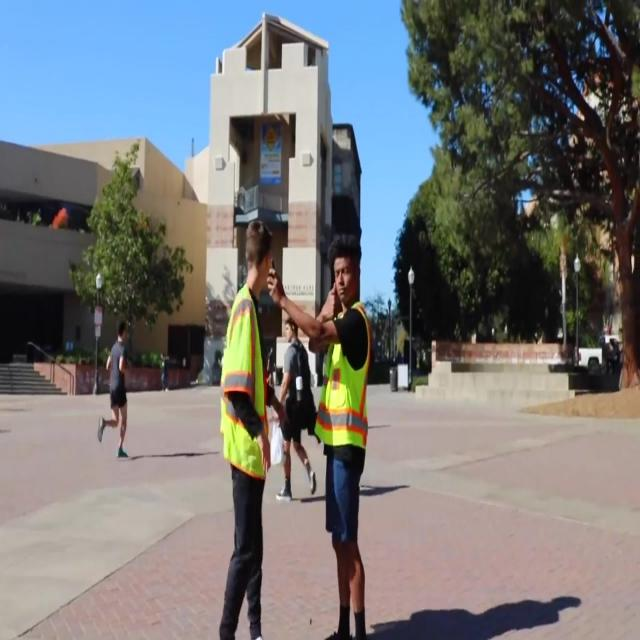Reflective-Jacket: (216, 278, 274, 482), (313, 298, 377, 461)
